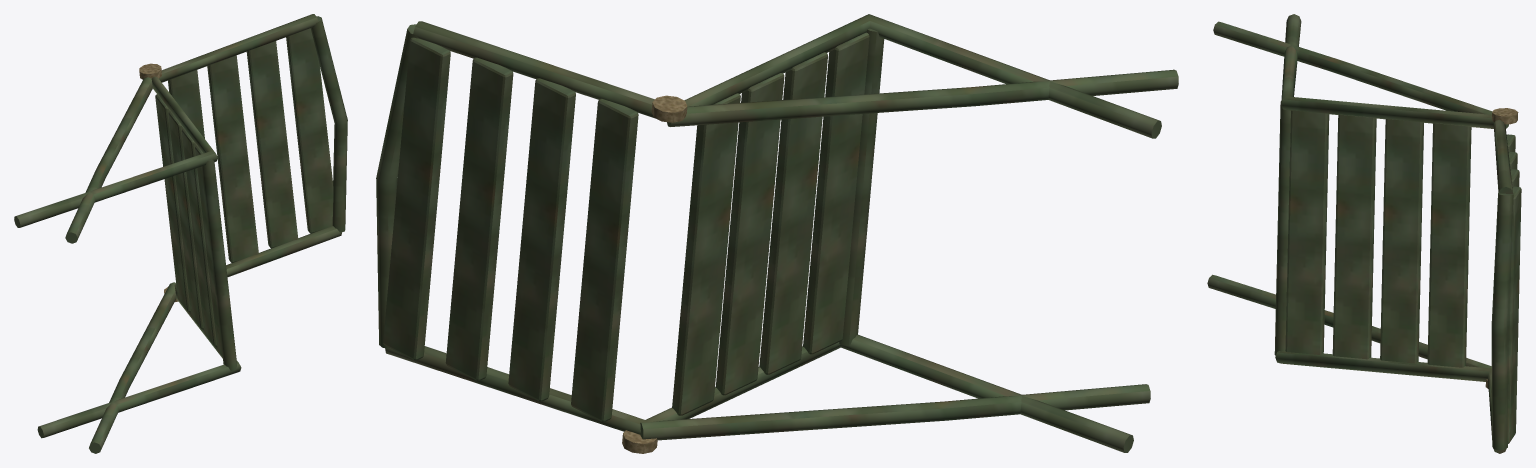
File: by_chair_collapsed.glb
3 renders of one model, left to right at view 1: azimuth 30°, elevation 25°; view 2: azimuth 150°, elevation 25°; view 3: azimuth 270°, elevation 25°, orthographic. The views are drawn at different scales.
Visible parts, largest first — view 1: by_chair_collapsed; view 2: by_chair_collapsed; view 3: by_chair_collapsed.
Boxes of the visible parts, <box> form: by_chair_collapsed: <box>14,14,347,453</box>; by_chair_collapsed: <box>376,14,1178,453</box>; by_chair_collapsed: <box>1207,14,1521,453</box>.
Bounding box in the file's own units: 0.9656 × 0.5774 × 0.5509.
1 material, 1 textured.
